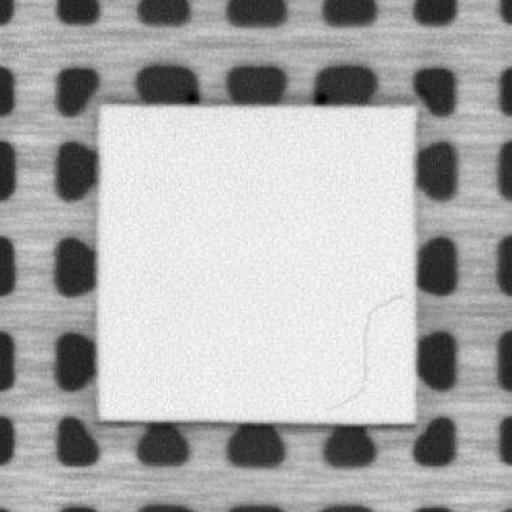DIE_CRACK: (320, 292, 405, 412)
